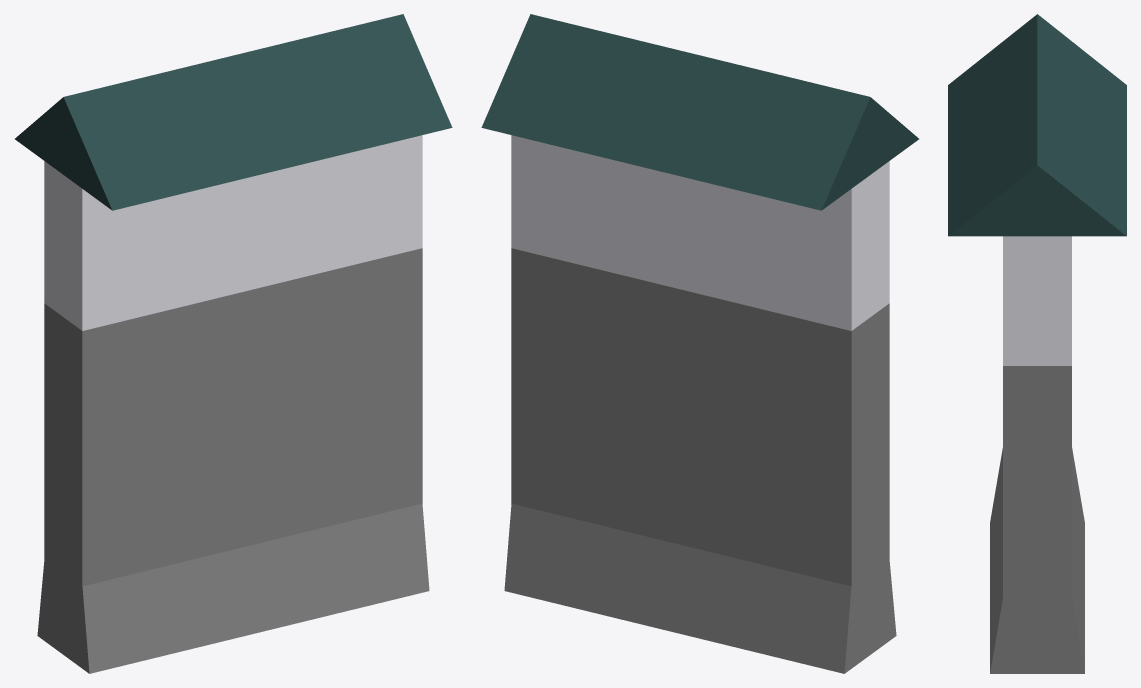
File: Asian_Prop_Building_Fence_Wall_High_Small_01.FBX
3 renders of one model, left to right at view 1: azimuth 30°, elevation 25°; view 2: azimuth 150°, elevation 25°; view 3: azimuth 270°, elevation 25°, orthographic. The views are drawn at different scales.
Parts seen in each view (by area): view 1: Asian_Prop_Building_Fence_Wall_High_Small_01; view 2: Asian_Prop_Building_Fence_Wall_High_Small_01; view 3: Asian_Prop_Building_Fence_Wall_High_Small_01.
Part boxes in pixels (box(x1,y1,x2,y2)): Asian_Prop_Building_Fence_Wall_High_Small_01: box(15, 14, 452, 673); Asian_Prop_Building_Fence_Wall_High_Small_01: box(481, 14, 918, 673); Asian_Prop_Building_Fence_Wall_High_Small_01: box(948, 14, 1126, 673).
Bounding box in the file's own units: 2584 × 4051 × 1290.
